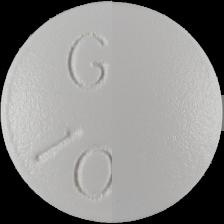53808-0762: (0, 0, 224, 224)
